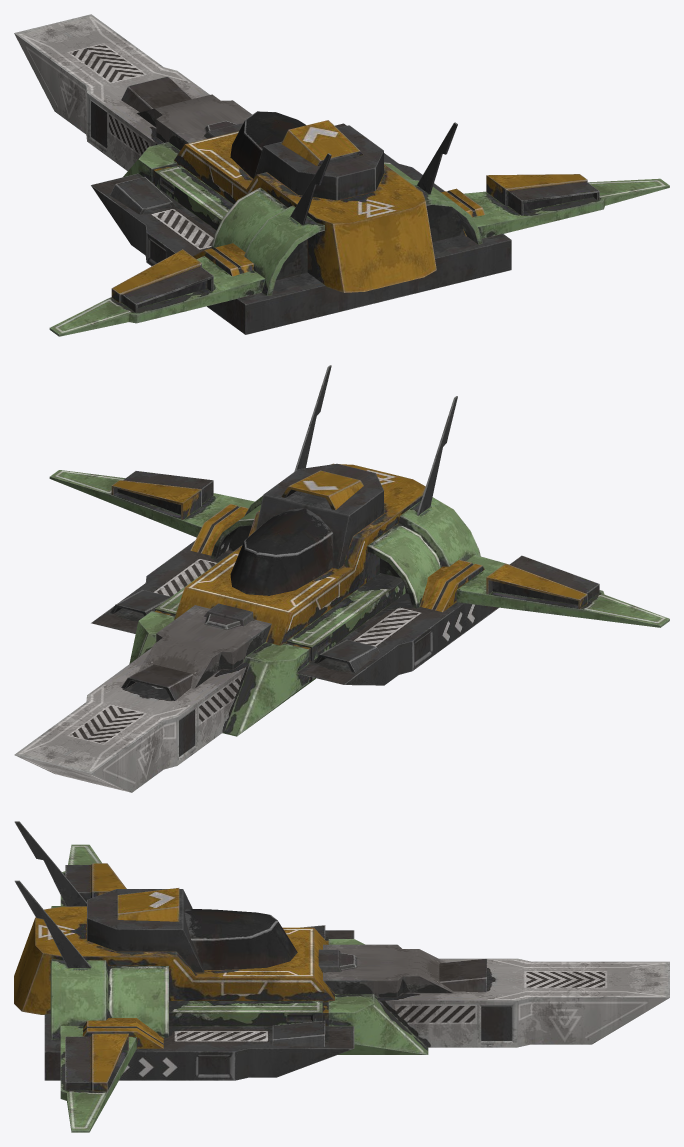
Rendered from quaternius-challenger.glb.
The picture shows the model from 3 angles, top to bottom: view 1: azimuth 30°, elevation 25°; view 2: azimuth 150°, elevation 25°; view 3: azimuth 270°, elevation 25°; orthographic projection. The views are drawn at different scales.
Visible parts, largest first — view 1: Challenger; view 2: Challenger; view 3: Challenger.
Boxes of the visible parts, left/top/right/bottom form: Challenger: left=14, top=14, right=669, bottom=336; Challenger: left=14, top=365, right=669, bottom=792; Challenger: left=14, top=821, right=669, bottom=1132.
Bounding box in the file's own units: 10.5 × 3.02 × 10.18.
Materials: 1 (1 with a texture image).
